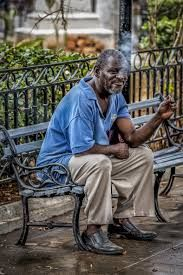no-mask: (90, 44, 131, 102)
